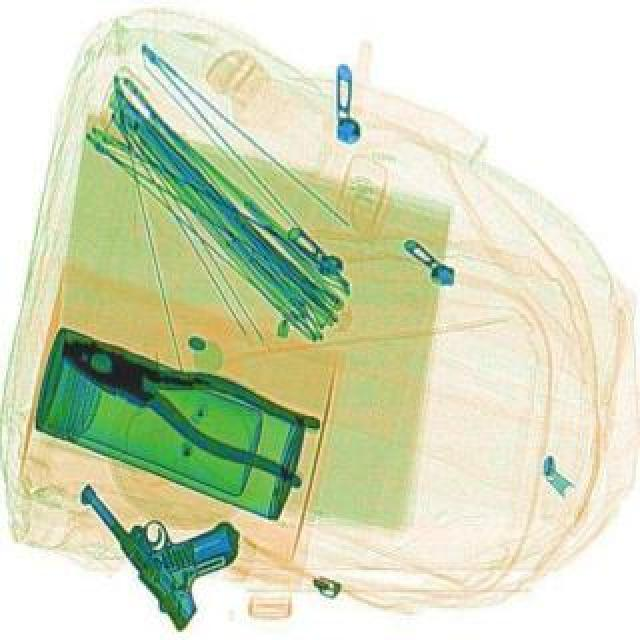gun: (70, 432, 270, 632)
wrench: (42, 314, 330, 488)
